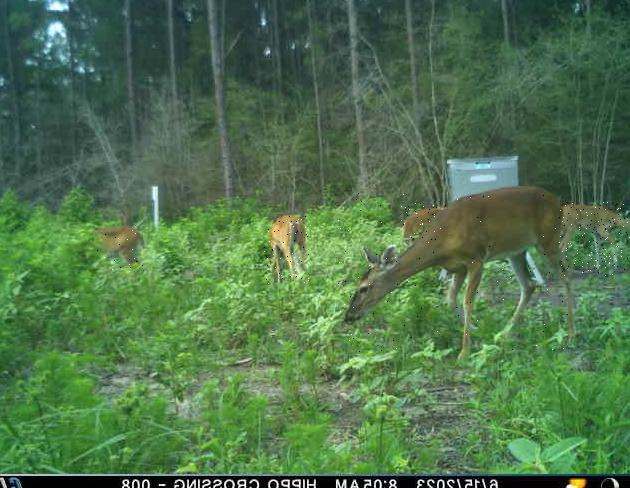Deer: (336, 186, 574, 353), (558, 203, 630, 277), (263, 215, 309, 287), (97, 223, 143, 273), (401, 201, 442, 244)
